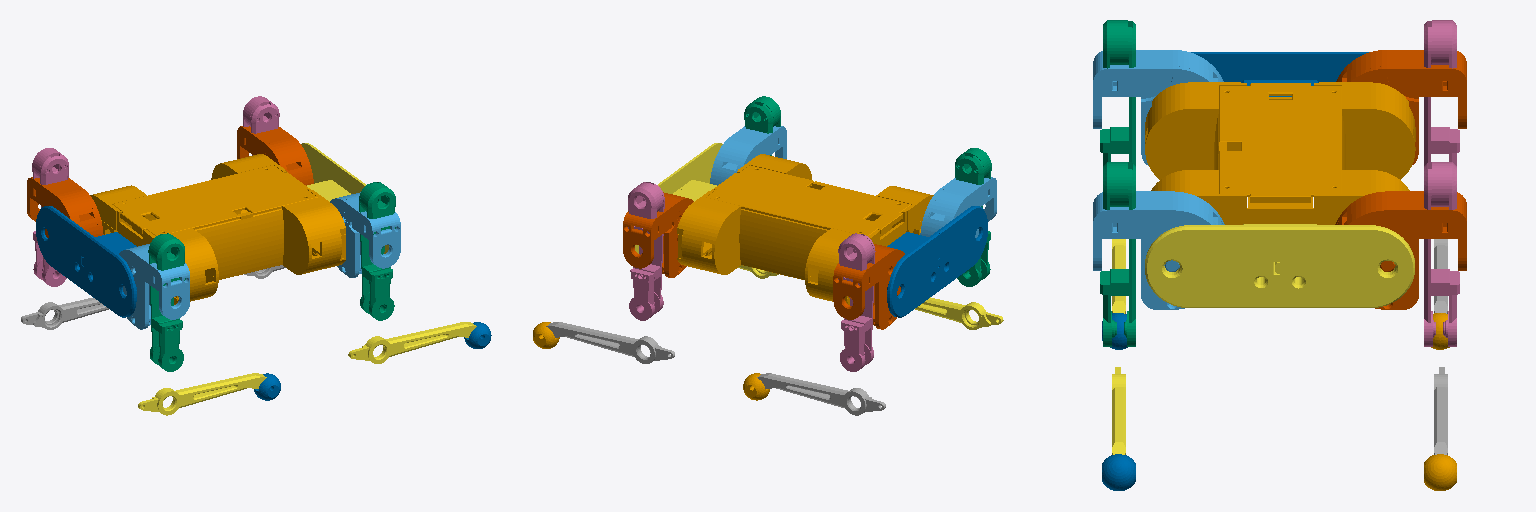
The robot description file, URDF, robot "quadruped":
<?xml version="1.0" encoding="utf-8"?>
<!-- =================================================================================== -->
<!-- |    This document was autogenerated by xacro from quadruped.urdf.xacro           | -->
<!-- |    EDITING THIS FILE BY HAND IS NOT RECOMMENDED                                 | -->
<!-- =================================================================================== -->
<robot name="quadruped">
  <material name="aluminum">
    <color rgba="0.5 0.5 0.5 1"/>
  </material>
  <material name="plastic">
    <color rgba="0.1 0.1 0.1 1"/>
  </material>
  <link name="base_link">
    <visual>
      <origin rpy="0 0 0" xyz="0 0 0"/>
      <geometry>
        <mesh filename="package://test_config/meshes/base.stl" scale="0.001 0.001 0.001"/>
      </geometry>
    </visual>
    <collision>
      <origin rpy="0 0 0" xyz="0 0 0"/>
      <geometry>
        <mesh filename="package://test_config/meshes/base.stl" scale="0.001 0.001 0.001"/>
      </geometry>
    </collision>
  </link>
  <!-- camera body, with origin at bottom screw mount -->
  <joint name="camera_joint" type="fixed">
    <origin rpy="0 0 0" xyz="0.075 0 0.068"/>
    <parent link="base_link"/>
    <child link="camera_bottom_screw_frame"/>
  </joint>
  <link name="camera_bottom_screw_frame"/>
  <joint name="camera_link_joint" type="fixed">
    <origin rpy="0 0 0" xyz="0.0106 0.0175 0.0125"/>
    <parent link="camera_bottom_screw_frame"/>
    <child link="camera_link"/>
  </joint>
  <link name="camera_link">
    <visual>
      <!-- the mesh origin is at front plate in between the two infrared camera axes -->
      <origin rpy="1.57079632679 0 1.57079632679" xyz="0.0043 -0.0175 0"/>
      <geometry>
        <mesh filename="package://realsense-ros/realsense2_description/meshes/d435.dae"/>
      </geometry>
    </visual>
    <collision>
      <origin rpy="0 0 0" xyz="0 -0.0175 0"/>
      <geometry>
        <box size="0.02505 0.09 0.025"/>
      </geometry>
    </collision>
    <inertial>
      <!-- The following are not reliable values, and should not be used for modeling -->
      <mass value="0.072"/>
      <origin xyz="0 0 0"/>
      <inertia ixx="0.003881243" ixy="0.0" ixz="0.0" iyy="0.000498940" iyz="0.0" izz="0.003879257"/>
    </inertial>
  </link>
  <link name="f_bumper_link">
    <visual>
      <origin rpy="0 0 0" xyz="0 0 0"/>
      <geometry>
        <mesh filename="package://test_config/meshes/bumper.stl" scale="0.001 0.001 0.001"/>
      </geometry>
    </visual>
    <collision>
      <origin rpy="0 0 0" xyz="0 0 0"/>
      <geometry>
        <mesh filename="package://test_config/meshes/bumper.stl" scale="0.001 0.001 0.001"/>
      </geometry>
    </collision>
  </link>
  <link name="h_bumper_link">
    <visual>
      <origin rpy="0 0 3.1415" xyz="0 0 0"/>
      <geometry>
        <mesh filename="package://test_config/meshes/bumper.stl" scale="0.001 0.001 0.001"/>
      </geometry>
    </visual>
    <collision>
      <origin rpy="0 0 3.1415" xyz="0 0 0"/>
      <geometry>
        <mesh filename="package://test_config/meshes/bumper.stl" scale="0.001 0.001 0.001"/>
      </geometry>
    </collision>
  </link>
  <link name="lf_hip_link">
    <visual>
      <origin rpy="0 0 0" xyz="0 0 0"/>
      <geometry>
        <mesh filename="package://test_config/meshes/hip.stl" scale="0.001 0.001 0.001"/>
      </geometry>
    </visual>
    <collision>
      <origin rpy="0 0 0" xyz="0 0 0"/>
      <geometry>
        <mesh filename="package://test_config/meshes/hip.stl" scale="0.001 0.001 0.001"/>
      </geometry>
    </collision>
  </link>
  <link name="lf_upper_leg_link">
    <visual>
      <origin rpy="1.5707 0 3.1415" xyz="0 0 0"/>
      <geometry>
        <mesh filename="package://test_config/meshes/upper-leg.stl" scale="0.001 0.001 0.001"/>
      </geometry>
    </visual>
    <collision>
      <origin rpy="1.5707 0 3.1415" xyz="0 0 0"/>
      <geometry>
        <mesh filename="package://test_config/meshes/upper-leg.stl" scale="0.001 0.001 0.001"/>
      </geometry>
    </collision>
  </link>
  <link name="lf_lower_leg_link">
    <visual>
      <origin rpy="1.5707 0 0" xyz="0 0 0"/>
      <geometry>
        <mesh filename="package://test_config/meshes/lower-leg.stl" scale="0.001 0.001 0.001"/>
      </geometry>
    </visual>
    <collision>
      <origin rpy="1.5707 0 0" xyz="0 0 0"/>
      <geometry>
        <mesh filename="package://test_config/meshes/lower-leg.stl" scale="0.001 0.001 0.001"/>
      </geometry>
    </collision>
  </link>
  <link name="lf_foot_link">
    <visual>
      <origin rpy="1.5707 0 0" xyz="0 0 0"/>
      <geometry>
        <mesh filename="package://test_config/meshes/foot.stl" scale="0.001 0.001 0.001"/>
      </geometry>
    </visual>
    <collision>
      <origin rpy="1.5707 0 0" xyz="0 0 0"/>
      <geometry>
        <mesh filename="package://test_config/meshes/foot.stl" scale="0.001 0.001 0.001"/>
      </geometry>
    </collision>
  </link>
  <link name="rf_hip_link">
    <visual>
      <origin rpy="0 0 0" xyz="0 0 0"/>
      <geometry>
        <mesh filename="package://test_config/meshes/hip.stl" scale="0.001 -0.001 0.001"/>
      </geometry>
    </visual>
    <collision>
      <origin rpy="0 0 0" xyz="0 0 0"/>
      <geometry>
        <mesh filename="package://test_config/meshes/hip.stl" scale="0.001 -0.001 0.001"/>
      </geometry>
    </collision>
  </link>
  <link name="rf_upper_leg_link">
    <visual>
      <origin rpy="4.7123 0 3.1415" xyz="0 0 0"/>
      <geometry>
        <mesh filename="package://test_config/meshes/upper-leg.stl" scale="0.001 -0.001 0.001"/>
      </geometry>
    </visual>
    <collision>
      <origin rpy="4.7123 0 3.1415" xyz="0 0 0"/>
      <geometry>
        <mesh filename="package://test_config/meshes/upper-leg.stl" scale="0.001 -0.001 0.001"/>
      </geometry>
    </collision>
  </link>
  <link name="rf_lower_leg_link">
    <visual>
      <origin rpy="4.7123 0 0" xyz="0 0 0"/>
      <geometry>
        <mesh filename="package://test_config/meshes/lower-leg.stl" scale="0.001 -0.001 0.001"/>
      </geometry>
    </visual>
    <collision>
      <origin rpy="4.7123 0 0" xyz="0 0 0"/>
      <geometry>
        <mesh filename="package://test_config/meshes/lower-leg.stl" scale="0.001 -0.001 0.001"/>
      </geometry>
    </collision>
  </link>
  <link name="rf_foot_link">
    <visual>
      <origin rpy="4.7123 0 0" xyz="0 0 0"/>
      <geometry>
        <mesh filename="package://test_config/meshes/foot.stl" scale="0.001 -0.001 0.001"/>
      </geometry>
    </visual>
    <collision>
      <origin rpy="4.7123 0 0" xyz="0 0 0"/>
      <geometry>
        <mesh filename="package://test_config/meshes/foot.stl" scale="0.001 -0.001 0.001"/>
      </geometry>
    </collision>
  </link>
  <link name="lh_hip_link">
    <visual>
      <origin rpy="0 0 0" xyz="0 0 0"/>
      <geometry>
        <mesh filename="package://test_config/meshes/hip.stl" scale="-0.001 0.001 0.001"/>
      </geometry>
    </visual>
    <collision>
      <origin rpy="0 0 0" xyz="0 0 0"/>
      <geometry>
        <mesh filename="package://test_config/meshes/hip.stl" scale="-0.001 0.001 0.001"/>
      </geometry>
    </collision>
  </link>
  <link name="lh_upper_leg_link">
    <visual>
      <origin rpy="1.5707 0 3.1415" xyz="0 0 0"/>
      <geometry>
        <mesh filename="package://test_config/meshes/upper-leg.stl" scale="0.001 0.001 0.001"/>
      </geometry>
    </visual>
    <collision>
      <origin rpy="1.5707 0 3.1415" xyz="0 0 0"/>
      <geometry>
        <mesh filename="package://test_config/meshes/upper-leg.stl" scale="0.001 0.001 0.001"/>
      </geometry>
    </collision>
  </link>
  <link name="lh_lower_leg_link">
    <visual>
      <origin rpy="1.5707 0 0" xyz="0 0 0"/>
      <geometry>
        <mesh filename="package://test_config/meshes/lower-leg.stl" scale="0.001 0.001 0.001"/>
      </geometry>
    </visual>
    <collision>
      <origin rpy="1.5707 0 0" xyz="0 0 0"/>
      <geometry>
        <mesh filename="package://test_config/meshes/lower-leg.stl" scale="0.001 0.001 0.001"/>
      </geometry>
    </collision>
  </link>
  <link name="lh_foot_link">
    <visual>
      <origin rpy="1.5707 0 0" xyz="0 0 0"/>
      <geometry>
        <mesh filename="package://test_config/meshes/foot.stl" scale="0.001 0.001 0.001"/>
      </geometry>
    </visual>
    <collision>
      <origin rpy="1.5707 0 0" xyz="0 0 0"/>
      <geometry>
        <mesh filename="package://test_config/meshes/foot.stl" scale="0.001 0.001 0.001"/>
      </geometry>
    </collision>
  </link>
  <link name="rh_hip_link">
    <visual>
      <origin rpy="0 0 0" xyz="0 0 0"/>
      <geometry>
        <mesh filename="package://test_config/meshes/hip.stl" scale="-0.001 -0.001 0.001"/>
      </geometry>
    </visual>
    <collision>
      <origin rpy="0 0 0" xyz="0 0 0"/>
      <geometry>
        <mesh filename="package://test_config/meshes/hip.stl" scale="-0.001 -0.001 0.001"/>
      </geometry>
    </collision>
  </link>
  <link name="rh_upper_leg_link">
    <visual>
      <origin rpy="4.7123 0 3.1415" xyz="0 0 0"/>
      <geometry>
        <mesh filename="package://test_config/meshes/upper-leg.stl" scale="0.001 -0.001 0.001"/>
      </geometry>
    </visual>
    <collision>
      <origin rpy="4.7123 0 3.1415" xyz="0 0 0"/>
      <geometry>
        <mesh filename="package://test_config/meshes/upper-leg.stl" scale="0.001 -0.001 0.001"/>
      </geometry>
    </collision>
  </link>
  <link name="rh_lower_leg_link">
    <visual>
      <origin rpy="4.7123 0 0" xyz="0 0 0"/>
      <geometry>
        <mesh filename="package://test_config/meshes/lower-leg.stl" scale="0.001 -0.001 0.001"/>
      </geometry>
    </visual>
    <collision>
      <origin rpy="4.7123 0 0" xyz="0 0 0"/>
      <geometry>
        <mesh filename="package://test_config/meshes/lower-leg.stl" scale="0.001 -0.001 0.001"/>
      </geometry>
    </collision>
  </link>
  <link name="rh_foot_link">
    <visual>
      <origin rpy="4.7123 0 0" xyz="0 0 0"/>
      <geometry>
        <mesh filename="package://test_config/meshes/foot.stl" scale="0.001 -0.001 0.001"/>
      </geometry>
    </visual>
    <collision>
      <origin rpy="4.7123 0 0" xyz="0 0 0"/>
      <geometry>
        <mesh filename="package://test_config/meshes/foot.stl" scale="0.001 -0.001 0.001"/>
      </geometry>
    </collision>
  </link>
  <joint name="f_bumper_joint" type="fixed">
    <origin rpy="0 0 0" xyz="0.1203 0.0000 -0.0042"/>
    <parent link="base_link"/>
    <child link="f_bumper_link"/>
  </joint>
  <joint name="h_bumper_joint" type="fixed">
    <origin rpy="0 0 0" xyz="-0.1199 0.0000 -0.0042"/>
    <parent link="base_link"/>
    <child link="h_bumper_link"/>
  </joint>
  <joint name="lf_hip_joint" type="revolute">
    <origin rpy="0 0 0" xyz="0.1105 0.0716 0.0009"/>
    <parent link="base_link"/>
    <child link="lf_hip_link"/>
    <axis xyz="1 0 0"/>
    <limit effort="25" lower="-0.8726" upper="0.8726" velocity="1.5"/>
  </joint>
  <joint name="lf_upper_leg_joint" type="revolute">
    <origin rpy="0 0 0" xyz="0.0000 0.0355 0.0041"/>
    <parent link="lf_hip_link"/>
    <child link="lf_upper_leg_link"/>
    <axis xyz="0 1 0"/>
    <limit effort="25" lower="-1.0472" upper="1.0472" velocity="1.5"/>
  </joint>
  <joint name="lf_lower_leg_joint" type="revolute">
    <origin rpy="0 0 0" xyz="0.0002 0.0003 -0.1078"/>
    <parent link="lf_upper_leg_link"/>
    <child link="lf_lower_leg_link"/>
    <axis xyz="0 1 0"/>
    <limit effort="25" lower="-2.0944" upper="-1.0472" velocity="1.5"/>
  </joint>
  <joint name="lf_foot_joint" type="fixed">
    <origin rpy="0 0 0" xyz="-0.0093 -0.0003 -0.1060"/>
    <parent link="lf_lower_leg_link"/>
    <child link="lf_foot_link"/>
  </joint>
  <joint name="rf_hip_joint" type="revolute">
    <origin rpy="0 0 0" xyz="0.1105 -0.0716 0.0009"/>
    <parent link="base_link"/>
    <child link="rf_hip_link"/>
    <axis xyz="1 0 0"/>
    <limit effort="25" lower="-0.8726" upper="0.8726" velocity="1.5"/>
  </joint>
  <joint name="rf_upper_leg_joint" type="revolute">
    <origin rpy="0 0 0" xyz="0.0000 -0.0355 0.0041"/>
    <parent link="rf_hip_link"/>
    <child link="rf_upper_leg_link"/>
    <axis xyz="0 1 0"/>
    <limit effort="25" lower="-1.0472" upper="1.0472" velocity="1.5"/>
  </joint>
  <joint name="rf_lower_leg_joint" type="revolute">
    <origin rpy="0 0 0" xyz="0.0002 -0.0003 -0.1078"/>
    <parent link="rf_upper_leg_link"/>
    <child link="rf_lower_leg_link"/>
    <axis xyz="0 1 0"/>
    <limit effort="25" lower="-2.0944" upper="-1.0472" velocity="1.5"/>
  </joint>
  <joint name="rf_foot_joint" type="fixed">
    <origin rpy="0 0 0" xyz="-0.0093 -0.0003 -0.1060"/>
    <parent link="rf_lower_leg_link"/>
    <child link="rf_foot_link"/>
  </joint>
  <joint name="lh_hip_joint" type="revolute">
    <origin rpy="0 0 0" xyz="-0.1131 0.0716 0.0009"/>
    <parent link="base_link"/>
    <child link="lh_hip_link"/>
    <axis xyz="1 0 0"/>
    <limit effort="25" lower="-0.8726" upper="0.8726" velocity="1.5"/>
  </joint>
  <joint name="lh_upper_leg_joint" type="revolute">
    <origin rpy="0 0 0" xyz="0.0000 0.0355 0.0041"/>
    <parent link="lh_hip_link"/>
    <child link="lh_upper_leg_link"/>
    <axis xyz="0 1 0"/>
    <limit effort="25" lower="-1.0472" upper="1.0472" velocity="1.5"/>
  </joint>
  <joint name="lh_lower_leg_joint" type="revolute">
    <origin rpy="0 0 0" xyz="0.0002 0.0003 -0.1078"/>
    <parent link="lh_upper_leg_link"/>
    <child link="lh_lower_leg_link"/>
    <axis xyz="0 1 0"/>
    <limit effort="25" lower="-2.0944" upper="-1.0472" velocity="1.5"/>
  </joint>
  <joint name="lh_foot_joint" type="fixed">
    <origin rpy="0 0 0" xyz="-0.0093 -0.0003 -0.1060"/>
    <parent link="lh_lower_leg_link"/>
    <child link="lh_foot_link"/>
  </joint>
  <joint name="rh_hip_joint" type="revolute">
    <origin rpy="0 0 0" xyz="-0.1131 -0.0716 0.0009"/>
    <parent link="base_link"/>
    <child link="rh_hip_link"/>
    <axis xyz="1 0 0"/>
    <limit effort="25" lower="-0.8726" upper="0.8726" velocity="1.5"/>
  </joint>
  <joint name="rh_upper_leg_joint" type="revolute">
    <origin rpy="0 0 0" xyz="0.0000 -0.0355 0.0041"/>
    <parent link="rh_hip_link"/>
    <child link="rh_upper_leg_link"/>
    <axis xyz="0 1 0"/>
    <limit effort="25" lower="-1.0472" upper="1.0472" velocity="1.5"/>
  </joint>
  <joint name="rh_lower_leg_joint" type="revolute">
    <origin rpy="0 0 0" xyz="0.0002 -0.0003 -0.1078"/>
    <parent link="rh_upper_leg_link"/>
    <child link="rh_lower_leg_link"/>
    <axis xyz="0 1 0"/>
    <limit effort="25" lower="-2.0944" upper="-1.0472" velocity="1.5"/>
  </joint>
  <joint name="rh_foot_joint" type="fixed">
    <origin rpy="0 0 0" xyz="-0.0093 -0.0003 -0.1060"/>
    <parent link="rh_lower_leg_link"/>
    <child link="rh_foot_link"/>
  </joint>
</robot>

--- Facts derived from the render (not from the file) ---
3 views of the same robot in one strip: view 1: azimuth 30°, elevation 25°; view 2: azimuth 150°, elevation 25°; view 3: azimuth 270°, elevation 25° (orthographic).
Robot: quadruped — 21 links, 20 joints (12 revolute, 8 fixed); root link base_link; default pose: all joints at 0 but 4 set to mid-range because 0 is outside their limits (lf_lower_leg_joint = -1.57, rf_lower_leg_joint = -1.57, lh_lower_leg_joint = -1.57, rh_lower_leg_joint = -1.57).
Links seen in each view (by area): view 1: base_link, h_bumper_link, rh_hip_link, rf_hip_link, rf_upper_leg_link, rh_upper_leg_link, lh_hip_link, lf_hip_link, rf_lower_leg_link, rh_lower_leg_link, f_bumper_link, lh_upper_leg_link (+2 smaller); view 2: base_link, h_bumper_link, lh_hip_link, lf_hip_link, lf_upper_leg_link, lh_upper_leg_link, rh_hip_link, rf_hip_link, lf_lower_leg_link, lh_lower_leg_link, f_bumper_link, rh_upper_leg_link (+2 smaller); view 3: base_link, f_bumper_link, rf_hip_link, lf_hip_link, rh_hip_link, lh_hip_link, h_bumper_link, lf_upper_leg_link, rf_upper_leg_link, lh_upper_leg_link, rh_upper_leg_link, lf_lower_leg_link (+5 smaller).
Link boxes in pixels (x1=…): base_link: x1=90, y1=154, x2=345, y2=304; h_bumper_link: x1=36, y1=206, x2=136, y2=317; rh_hip_link: x1=119, y1=244, x2=189, y2=329; rf_hip_link: x1=330, y1=192, x2=400, y2=277; rf_upper_leg_link: x1=359, y1=182, x2=395, y2=320; rh_upper_leg_link: x1=148, y1=233, x2=185, y2=371; lh_hip_link: x1=27, y1=177, x2=103, y2=237; lf_hip_link: x1=237, y1=126, x2=313, y2=185; rf_lower_leg_link: x1=348, y1=322, x2=476, y2=363; rh_lower_leg_link: x1=138, y1=373, x2=266, y2=415; f_bumper_link: x1=301, y1=143, x2=388, y2=253; lh_upper_leg_link: x1=32, y1=148, x2=68, y2=286; base_link: x1=677, y1=154, x2=933, y2=304; h_bumper_link: x1=887, y1=206, x2=987, y2=317; lh_hip_link: x1=833, y1=244, x2=904, y2=329; lf_hip_link: x1=623, y1=192, x2=693, y2=277; lf_upper_leg_link: x1=628, y1=182, x2=664, y2=320; lh_upper_leg_link: x1=838, y1=233, x2=875, y2=371; rh_hip_link: x1=920, y1=177, x2=996, y2=237; rf_hip_link: x1=710, y1=126, x2=786, y2=185; lf_lower_leg_link: x1=546, y1=322, x2=674, y2=363; lh_lower_leg_link: x1=757, y1=373, x2=885, y2=415; f_bumper_link: x1=635, y1=143, x2=722, y2=253; rh_upper_leg_link: x1=955, y1=148, x2=991, y2=286; base_link: x1=1145, y1=82, x2=1415, y2=224; f_bumper_link: x1=1145, y1=224, x2=1414, y2=307; rf_hip_link: x1=1093, y1=191, x2=1224, y2=309; lf_hip_link: x1=1335, y1=191, x2=1466, y2=309; rh_hip_link: x1=1093, y1=50, x2=1223, y2=165; lh_hip_link: x1=1336, y1=50, x2=1466, y2=164; h_bumper_link: x1=1191, y1=52, x2=1368, y2=96; lf_upper_leg_link: x1=1424, y1=162, x2=1459, y2=346; rf_upper_leg_link: x1=1100, y1=162, x2=1135, y2=346; lh_upper_leg_link: x1=1424, y1=20, x2=1459, y2=165; rh_upper_leg_link: x1=1100, y1=20, x2=1135, y2=165; lf_lower_leg_link: x1=1434, y1=367, x2=1447, y2=454.
Bounding box of the posed robot: 0.3729 × 0.2493 × 0.19 m (x, y, z).
19 mesh visuals loaded from 7 distinct referenced files (6 binary STL); not drawn: 1 (reference not matched to a file when rendering).